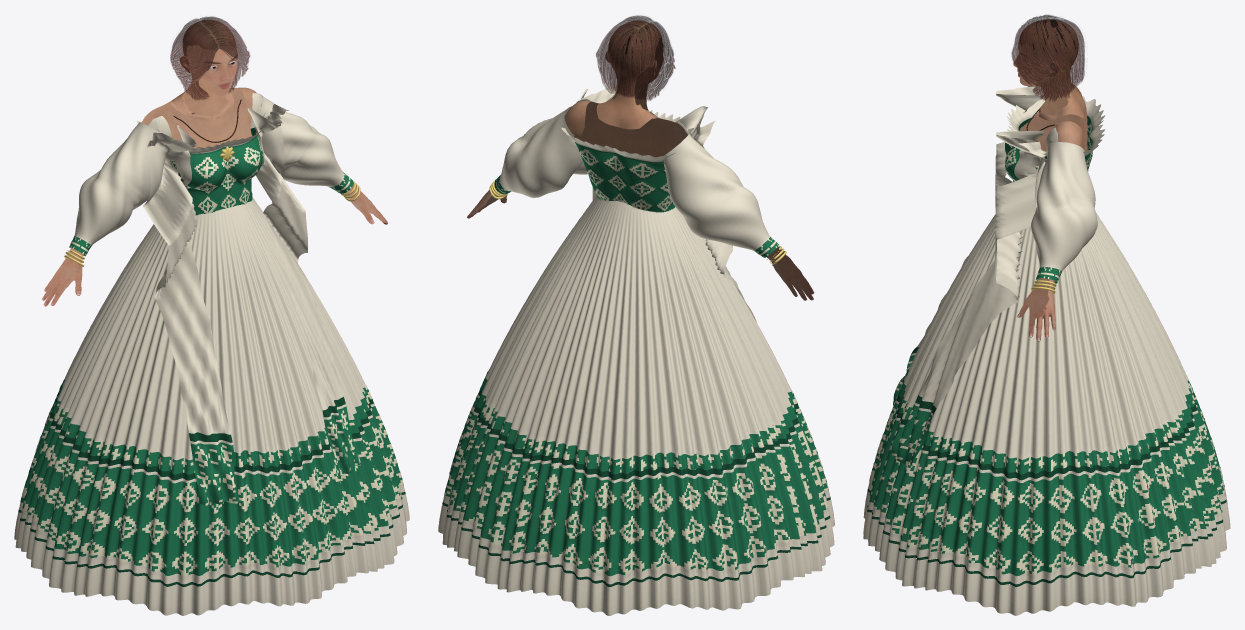
File: female-green-dress.glb
The picture shows the model from 3 angles, left to right: view 1: azimuth 30°, elevation 25°; view 2: azimuth 150°, elevation 25°; view 3: azimuth 270°, elevation 25°; orthographic projection.
Parts seen in each view (by area): view 1: Gown_Skirt, Gown_Shawl, Gown_Sleeves, Full_Body_Mouth Cavity1_0, Gown_Bodice, Hair_hair1_0, Full_Body_Body1_0, Full_Body_Arms1_0, Gown_Jewelry; view 2: Gown_Skirt, Gown_Sleeves, Hair_hair1_0, Full_Body_Mouth Cavity1_0, Gown_Bodice, Full_Body_Arms1_0, Full_Body_Body1_0, Gown_Shawl; view 3: Gown_Skirt, Gown_Shawl, Gown_Sleeves, Hair_hair1_0, Full_Body_Mouth Cavity1_0, Full_Body_Arms1_0, Gown_Bodice, Full_Body_Body1_0.
Boxes of the visible parts, x1,y1,x2,y2 form: Gown_Skirt: (14,197,409,615); Gown_Shawl: (143,104,359,505); Gown_Sleeves: (69,94,353,256); Full_Body_Mouth Cavity1_0: (171,19,237,120); Gown_Bodice: (136,112,268,215); Hair_hair1_0: (170,16,250,100); Full_Body_Body1_0: (161,88,252,163); Full_Body_Arms1_0: (43,87,387,306); Gown_Jewelry: (64,99,360,266); Gown_Skirt: (438,195,834,615); Gown_Sleeves: (494,106,778,257); Hair_hair1_0: (596,15,675,100); Full_Body_Mouth Cavity1_0: (596,20,663,129); Gown_Bodice: (561,110,694,212); Full_Body_Arms1_0: (467,100,813,300); Full_Body_Body1_0: (579,101,667,176); Gown_Shawl: (573,85,756,322); Gown_Skirt: (863,213,1230,615); Gown_Shawl: (891,85,1046,467); Gown_Sleeves: (1031,114,1097,283); Hair_hair1_0: (1011,14,1084,101); Full_Body_Mouth Cavity1_0: (1013,19,1084,120); Full_Body_Arms1_0: (1017,84,1084,341); Gown_Bodice: (1005,96,1105,181); Full_Body_Body1_0: (1019,86,1087,151).
Bounding box in the file's own units: 1.2 × 1.72 × 1.1.
16 materials, 10 textured.
